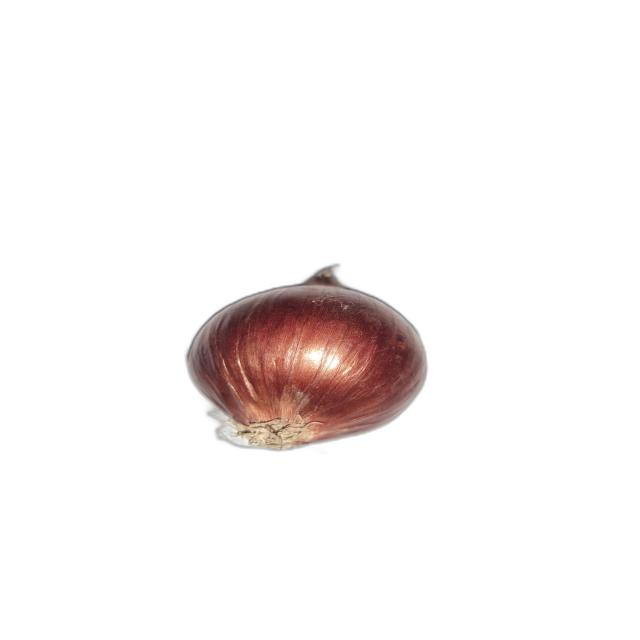onion: (184, 262, 429, 451)
